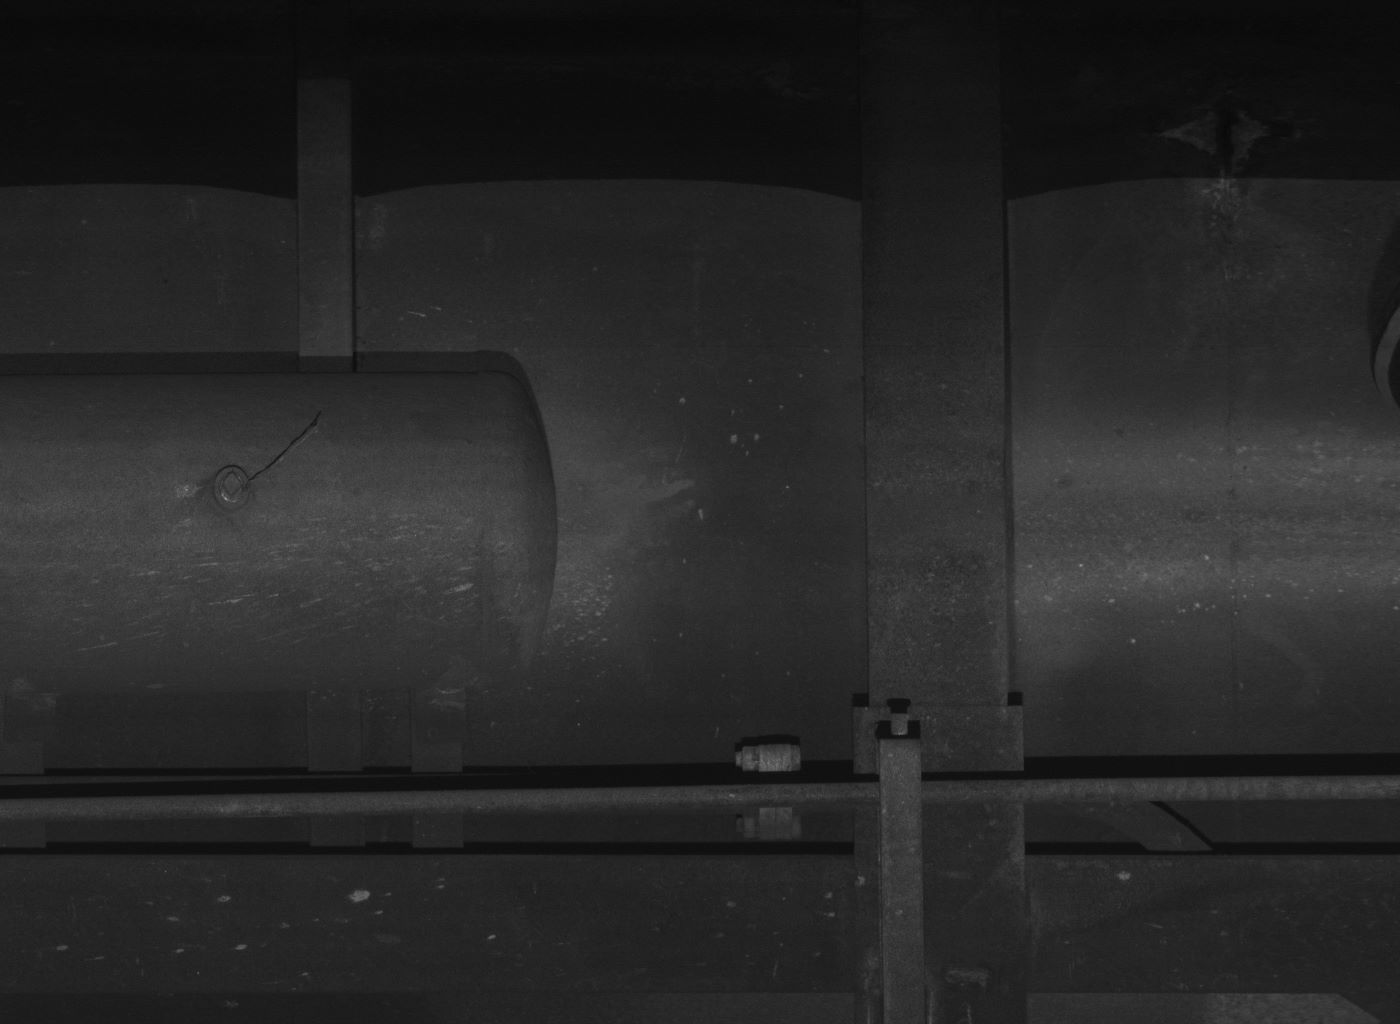normal: (880, 713, 928, 1024)
